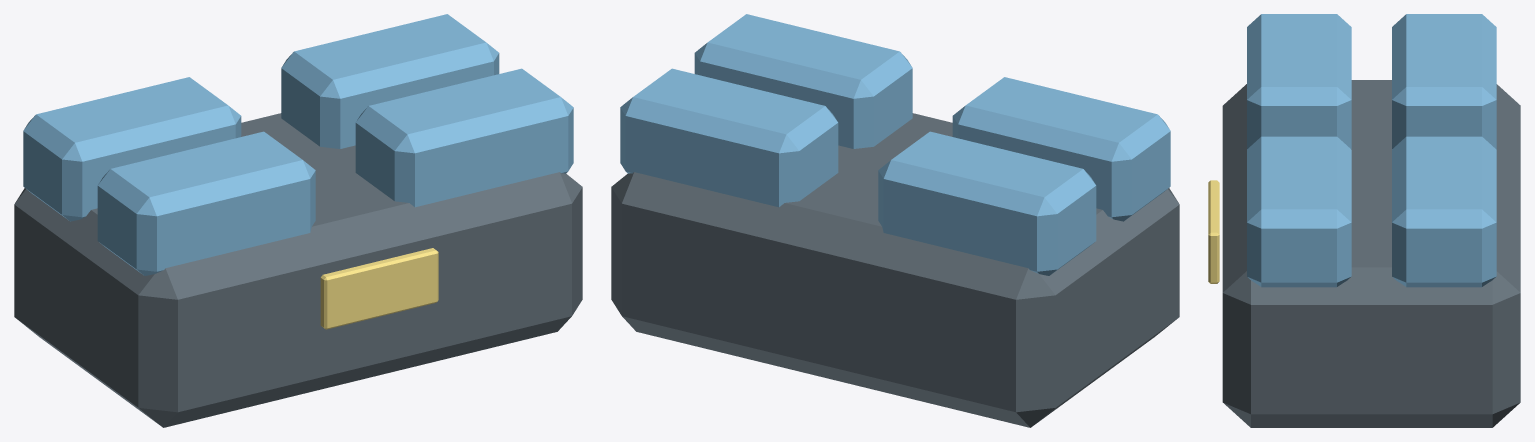
Rendered from FTF_Product_BatteryPack.glb.
The picture shows the model from 3 angles, left to right: view 1: azimuth 30°, elevation 25°; view 2: azimuth 150°, elevation 25°; view 3: azimuth 270°, elevation 25°; orthographic projection. The views are drawn at different scales.
Parts seen in each view (by area): view 1: BatteryHolder, BatteryCell_1, BatteryCell_2, BatteryCell_3, BatteryCell_4, ChargeMark; view 2: BatteryHolder, BatteryCell_3, BatteryCell_4, BatteryCell_1, BatteryCell_2; view 3: BatteryHolder, BatteryCell_2, BatteryCell_4, BatteryCell_3, BatteryCell_1, ChargeMark.
Part boxes in pixels (left/top/right/bottom): BatteryHolder: left=14, top=113, right=582, bottom=427; BatteryCell_1: left=97, top=131, right=315, bottom=275; BatteryCell_2: left=355, top=68, right=573, bottom=207; BatteryCell_3: left=23, top=77, right=241, bottom=221; BatteryCell_4: left=281, top=14, right=499, bottom=148; ChargeMark: left=320, top=248, right=438, bottom=329; BatteryHolder: left=611, top=113, right=1179, bottom=427; BatteryCell_3: left=878, top=131, right=1096, bottom=275; BatteryCell_4: left=620, top=68, right=838, bottom=207; BatteryCell_1: left=952, top=77, right=1170, bottom=221; BatteryCell_2: left=694, top=14, right=912, bottom=148; BatteryHolder: left=1222, top=80, right=1520, bottom=427; BatteryCell_2: left=1247, top=136, right=1351, bottom=287; BatteryCell_4: left=1392, top=136, right=1496, bottom=287; BatteryCell_3: left=1392, top=14, right=1496, bottom=149; BatteryCell_1: left=1247, top=14, right=1351, bottom=148; ChargeMark: left=1208, top=180, right=1219, bottom=283.
Size of the model in its own units: 0.62 by 0.305 by 0.388.
